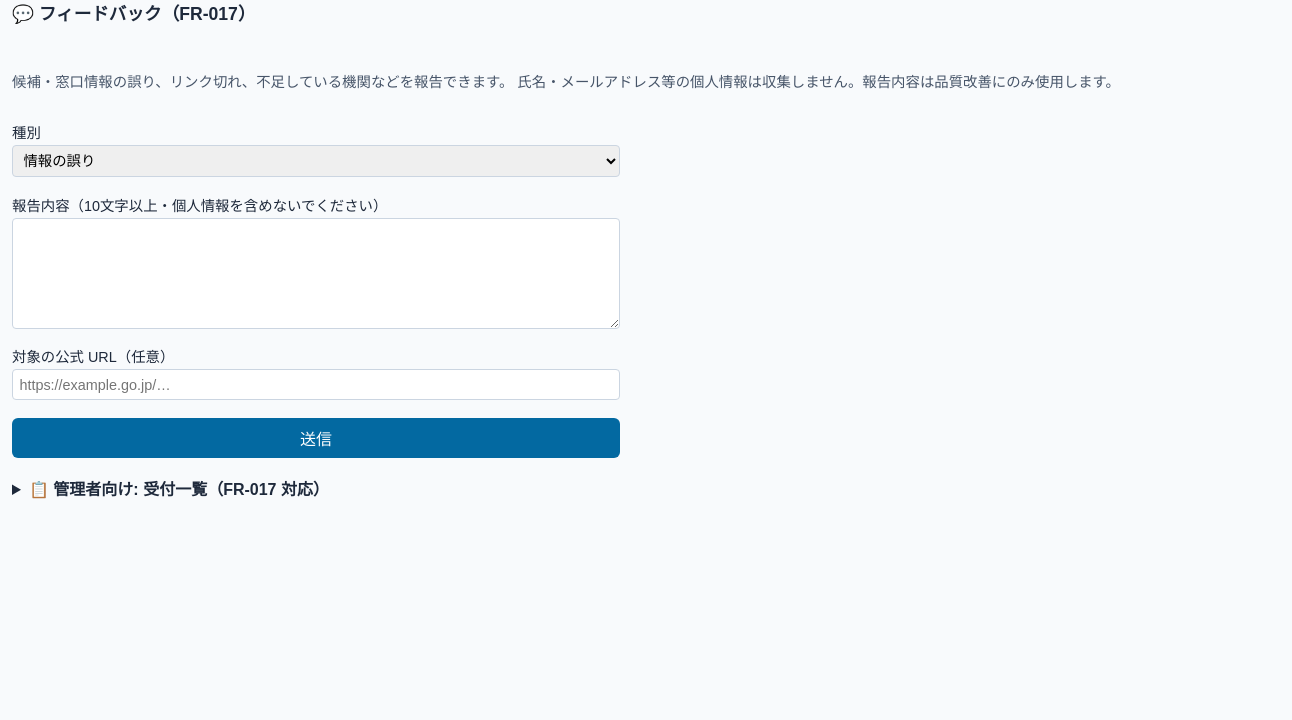
Test case: FeedbackPage（FR-017） › 10文字未満の本文は送信されずエラーを表示する
In the text box labelled "報告内容（10文字以上・個人情報を含めないでください）": {"x": 316, "y": 273} left=12, top=218, right=620, bottom=329, type "短い"
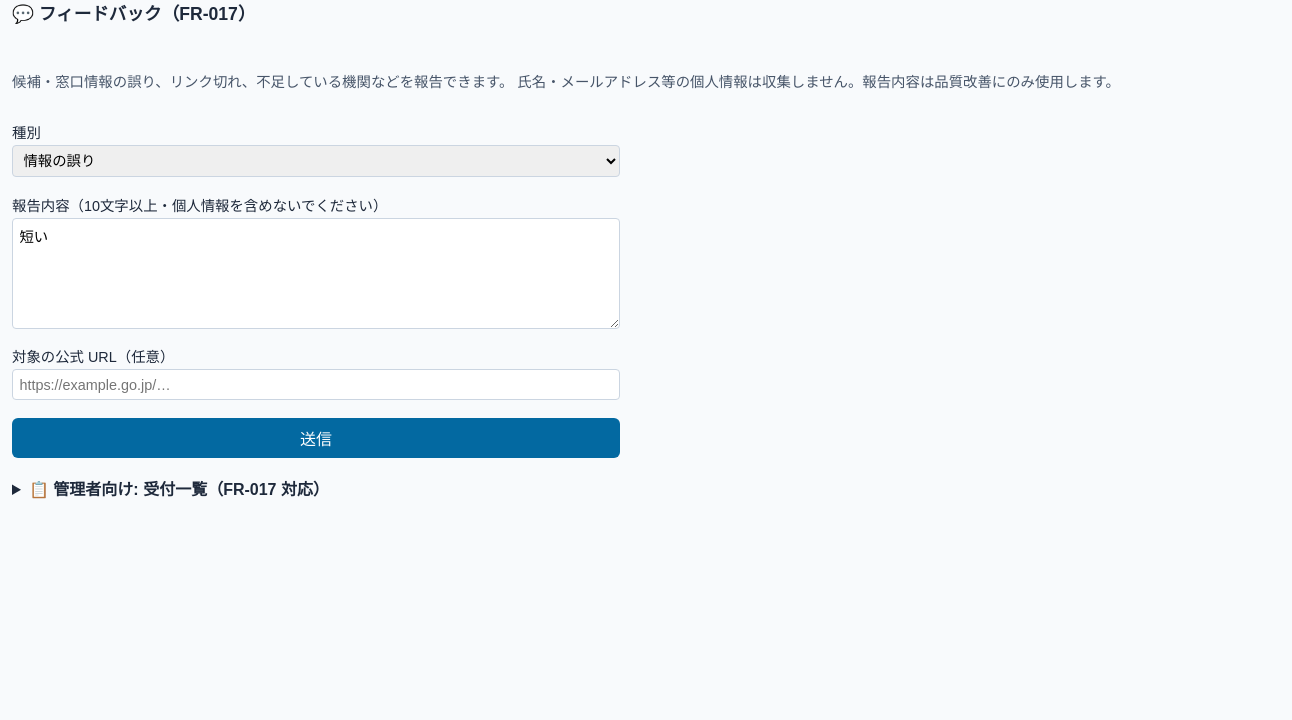
Click the button "送信": {"x": 316, "y": 438} left=12, top=418, right=620, bottom=458
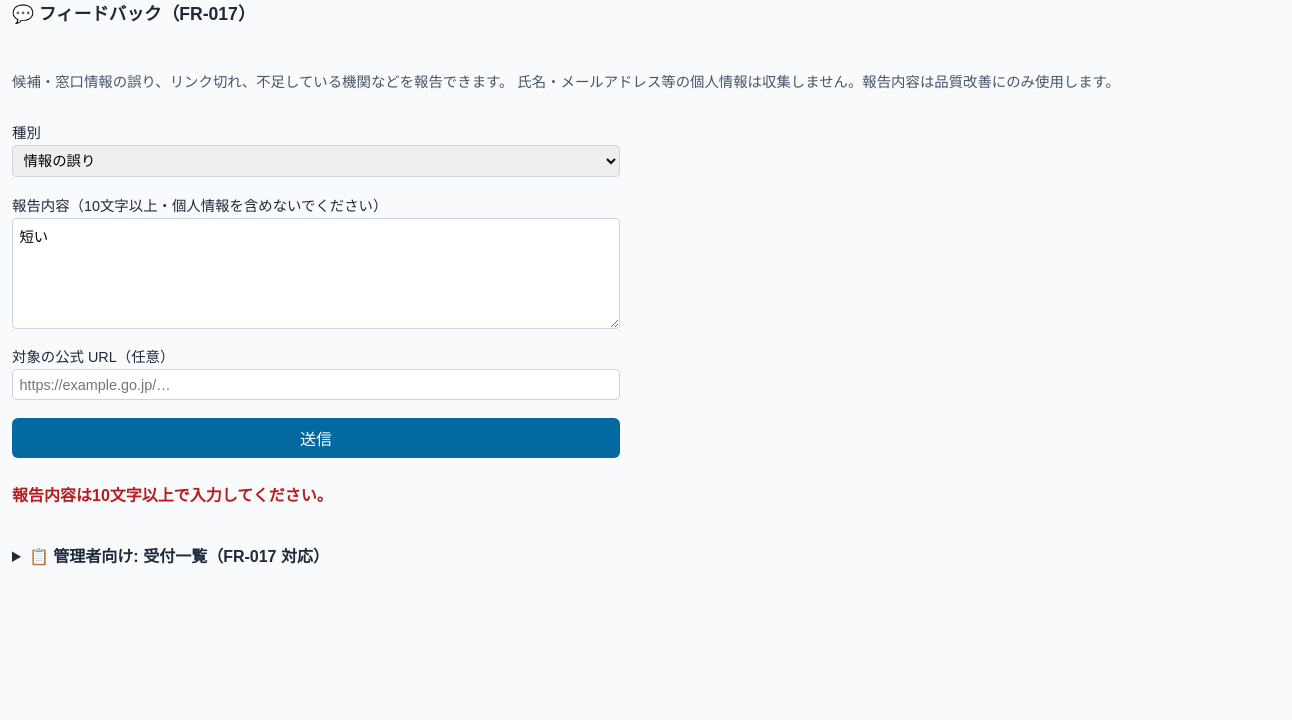
Expected: the message "報告内容は10文字以上で入力してください。" is shown, left=12, top=487, right=333, bottom=504
